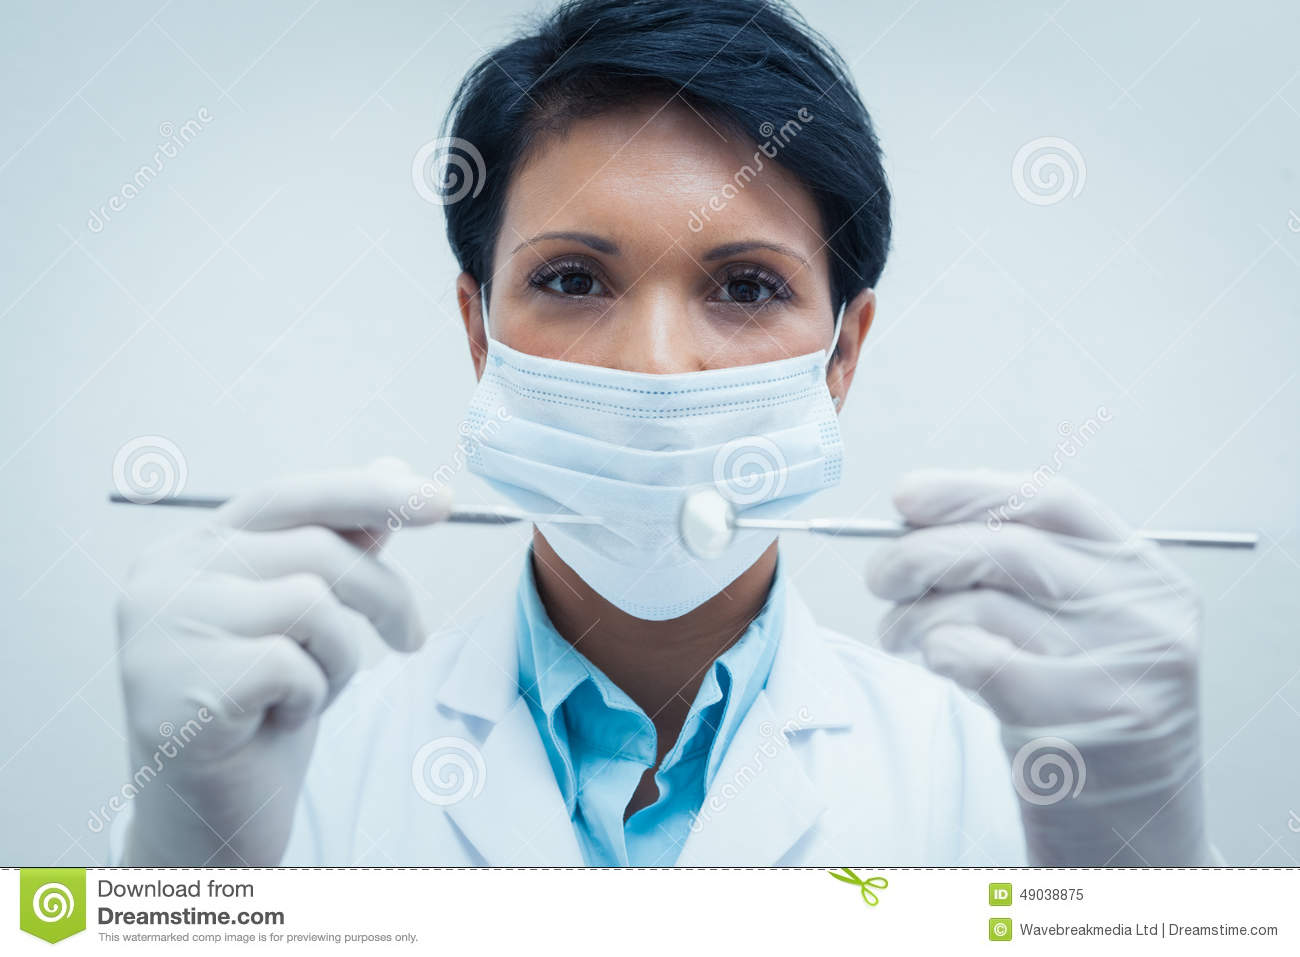mask: (464, 332, 869, 624)
